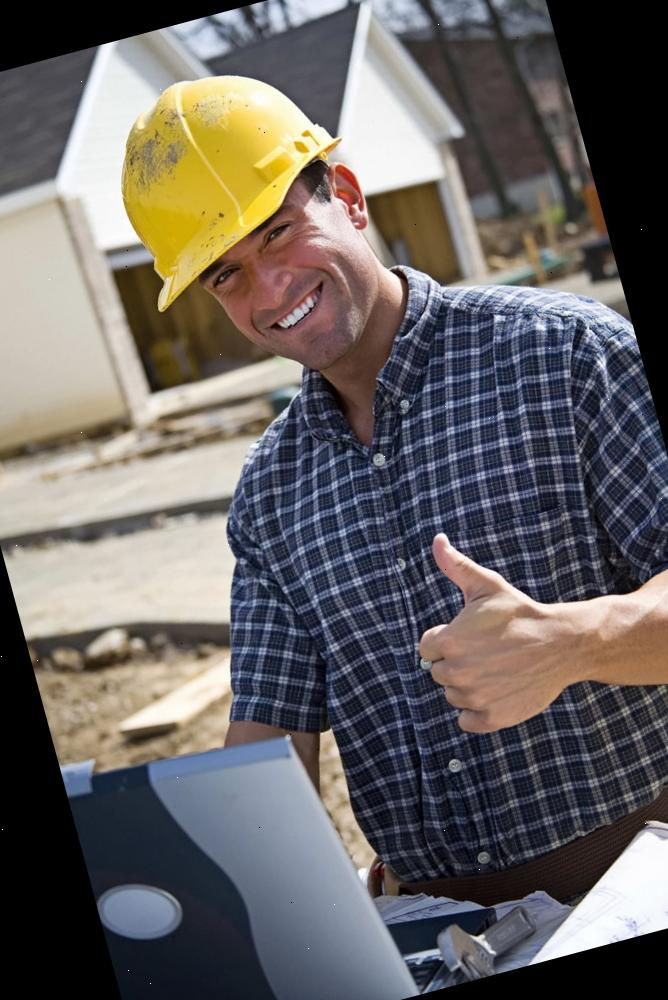helmet: (96, 44, 368, 304)
no_wear: (177, 300, 668, 899)
